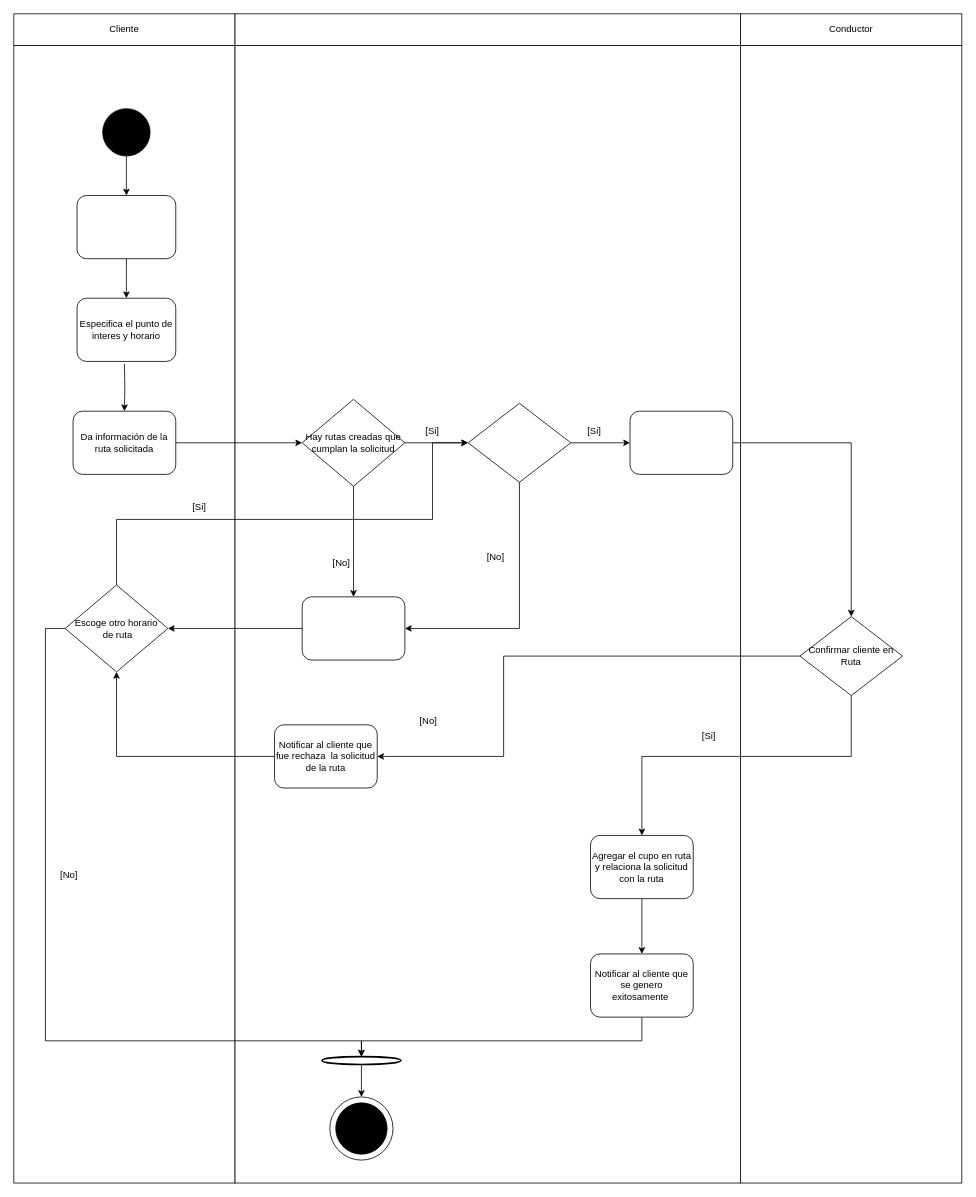
Image size: 976x1197. Some labels were removed from this diagram. The centre of each missing label's shape, as x and y in pixels:
Hay cupo en ruta: (519,442)
Mostrar otros horarios que cubran el punto de interes: (353,628)
Notificar y Mostrar solicitud de ruta a conductor: (681,442)
Plataforma: (487,29)
Solicitar generar solicitud ruta: (126,227)
